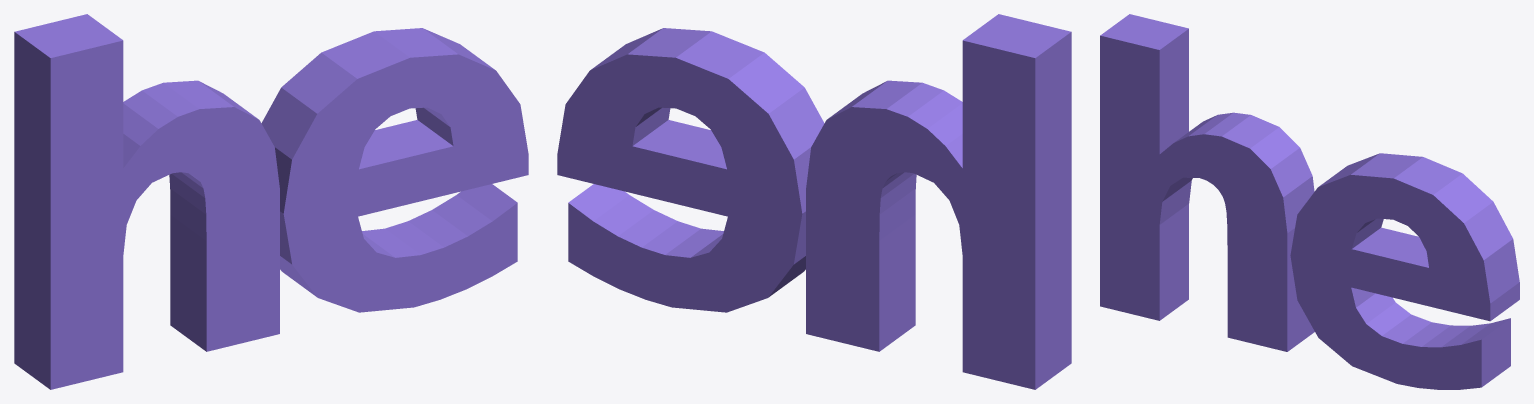
Rendered from suku_kecil_he.glb.
3 views of the same model, side by side, from view 1: azimuth 30°, elevation 25°; view 2: azimuth 150°, elevation 25°; view 3: azimuth 330°, elevation 25° (orthographic). The views are drawn at different scales.
Visible parts, largest first — view 1: geometry_0; view 2: geometry_0; view 3: geometry_0.
Boxes of the visible parts, x1,y1,x2,y2 form: geometry_0: (14, 14, 528, 389); geometry_0: (557, 14, 1071, 389); geometry_0: (1100, 14, 1519, 389).
Size of the model in its own units: 11.45 by 7.74 by 1.5.
